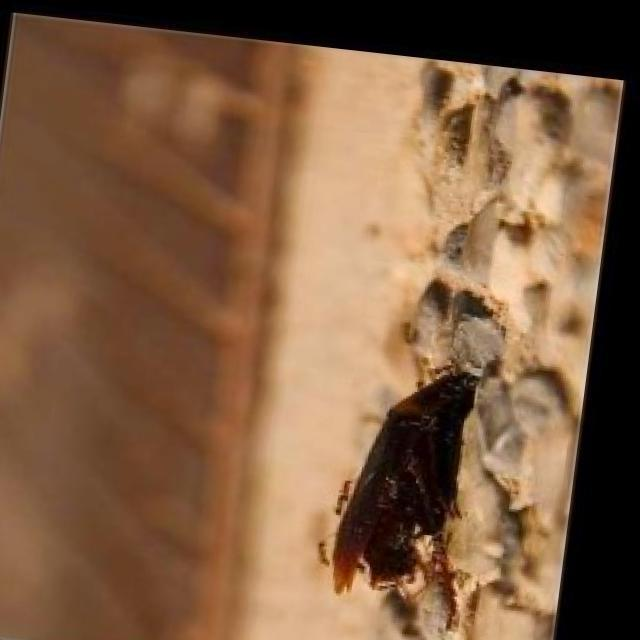cockroach: (317, 319, 493, 626)
